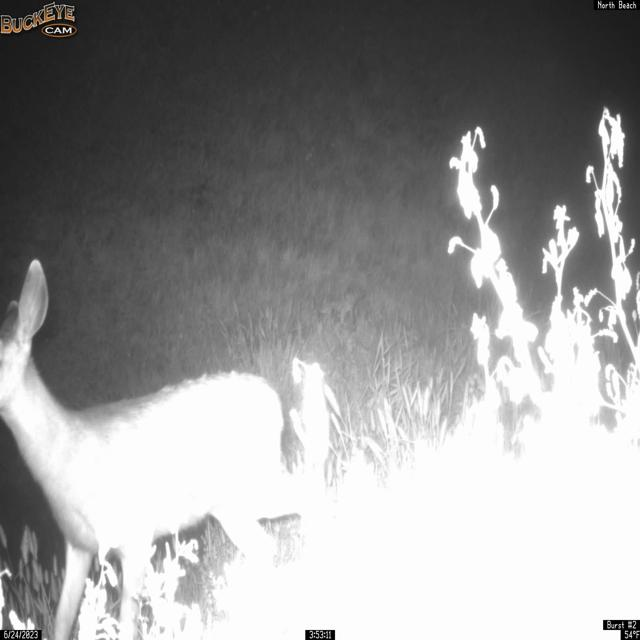deer: (0, 258, 334, 640)
